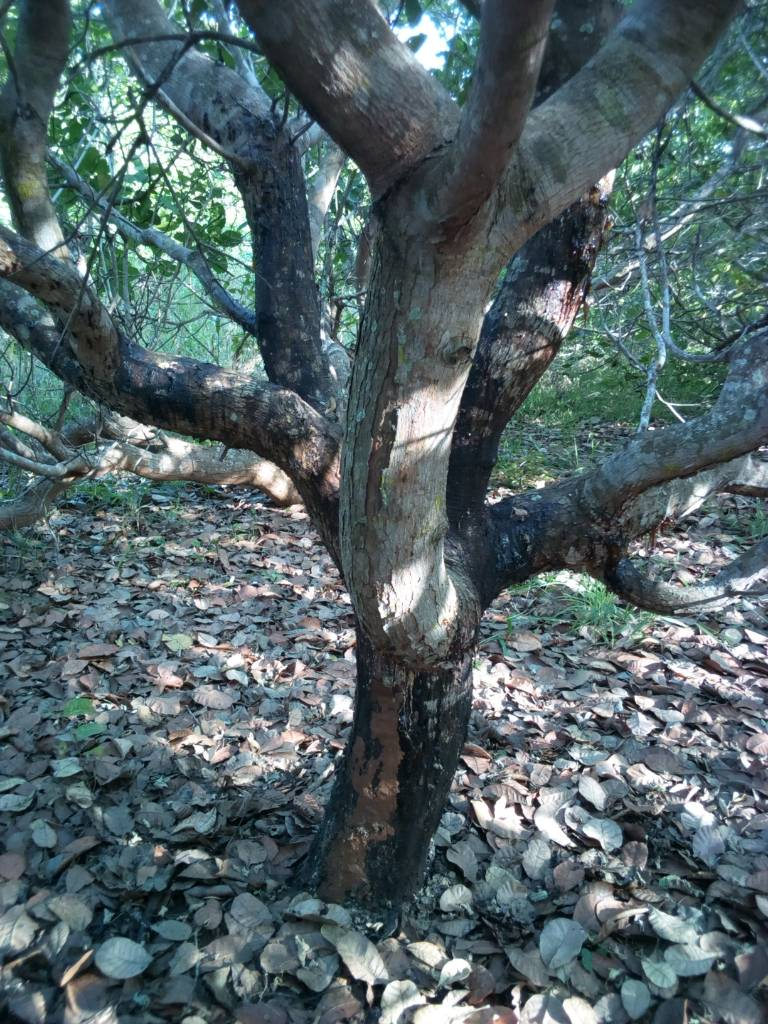Gommose: (325, 682, 471, 899), (468, 496, 568, 572)
